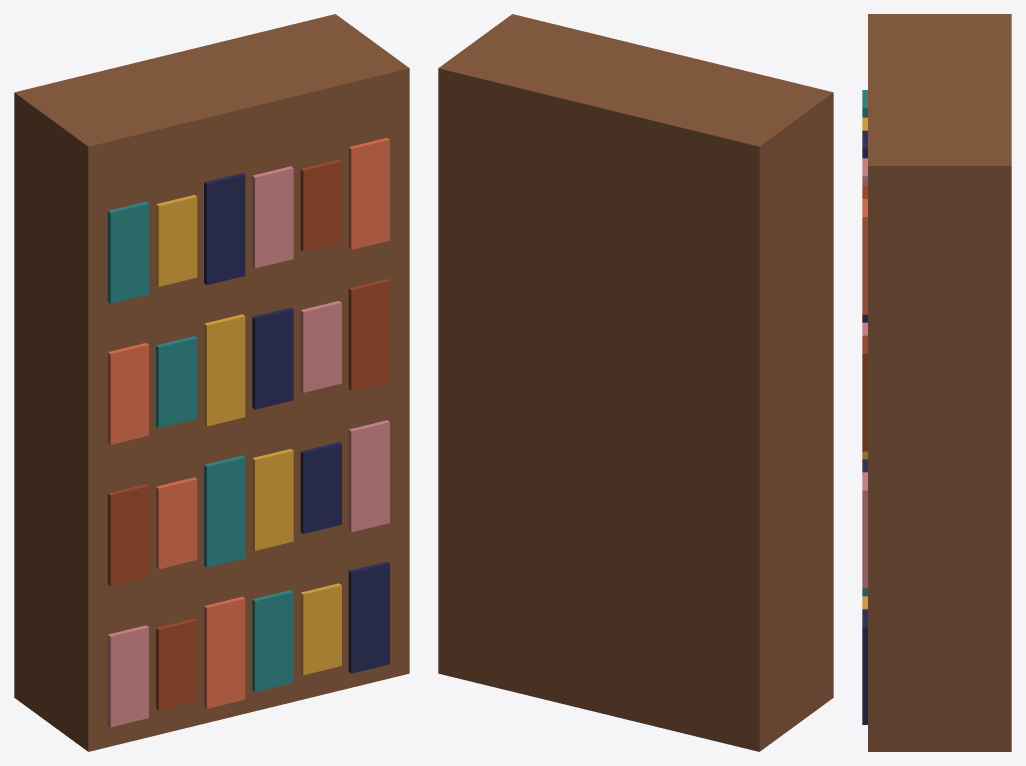
The model's file is bookshelf.glb.
3 renders of one model, left to right at view 1: azimuth 30°, elevation 25°; view 2: azimuth 150°, elevation 25°; view 3: azimuth 270°, elevation 25°, orthographic. The views are drawn at different scales.
Visible parts, largest first — view 1: Box1, Box16, Box4, Box7, Box10, Box19, Box13, Box22, Box25, Box17, Box20, Box23 (+13 smaller); view 2: Box1; view 3: Box1, Box13, Box19, Box7, Box25.
Boxes of the visible parts, left/top/right/bottom form: Box1: left=14, top=14, right=409, bottom=751; Box16: left=204, top=314, right=245, bottom=426; Box4: left=204, top=596, right=245, bottom=708; Box7: left=348, top=561, right=389, bottom=673; Box10: left=204, top=455, right=245, bottom=567; Box19: left=348, top=279, right=389, bottom=391; Box13: left=348, top=420, right=389, bottom=532; Box22: left=204, top=173, right=245, bottom=284; Box25: left=348, top=138, right=389, bottom=249; Box17: left=252, top=307, right=293, bottom=409; Box20: left=107, top=201, right=148, bottom=303; Box23: left=252, top=166, right=293, bottom=268; Box1: left=438, top=14, right=833, bottom=751; Box1: left=868, top=14, right=1011, bottom=751; Box13: left=862, top=472, right=867, bottom=588; Box19: left=862, top=335, right=867, bottom=451; Box7: left=862, top=609, right=867, bottom=724; Box25: left=862, top=199, right=867, bottom=314.
Bounding box in the file's own units: 1 × 1.8 × 0.415.
